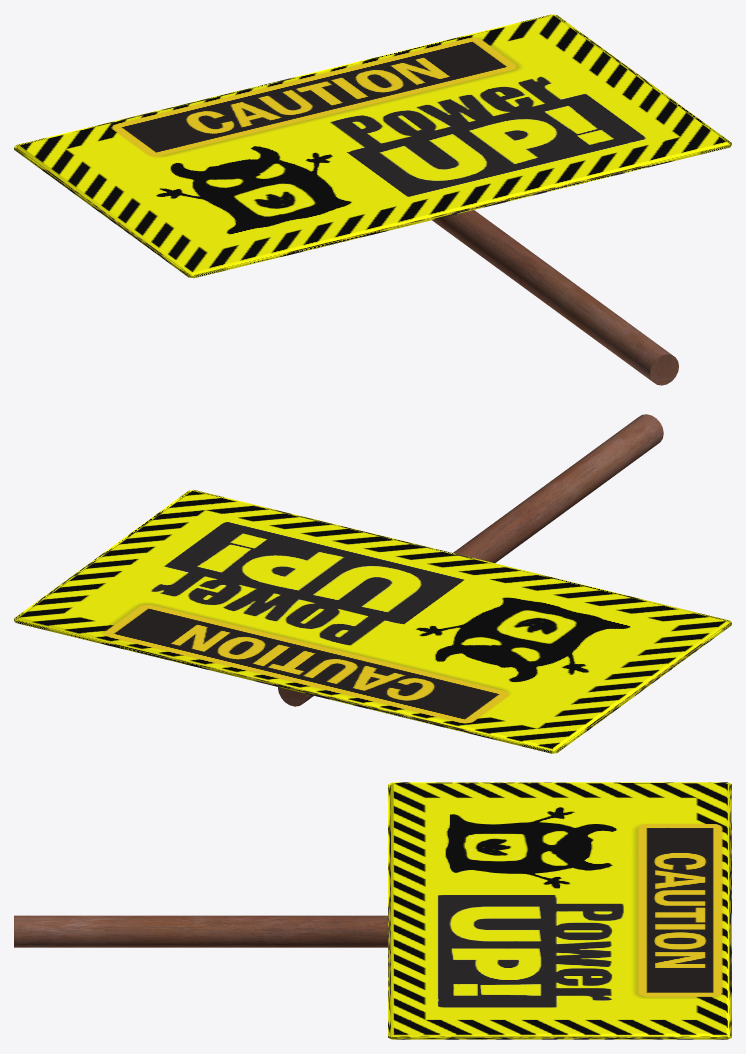
Rendered from CautionSign.FBX.
The picture shows the model from 3 angles, top to bottom: view 1: azimuth 30°, elevation 25°; view 2: azimuth 150°, elevation 25°; view 3: azimuth 270°, elevation 25°; orthographic projection. The views are drawn at different scales.
Parts seen in each view (by area): view 1: Box001, Cylinder001; view 2: Box001, Cylinder001; view 3: Box001, Cylinder001.
Boxes of the visible parts, x1,y1,x2,y2 form: Box001: (14,14,731,278); Cylinder001: (432,210,678,385); Box001: (14,490,731,753); Cylinder001: (278,414,663,706); Box001: (388,782,731,1039); Cylinder001: (14,915,387,947).
Size of the model in its own units: 110 by 6.83 by 131.
2 materials, 2 textured.
